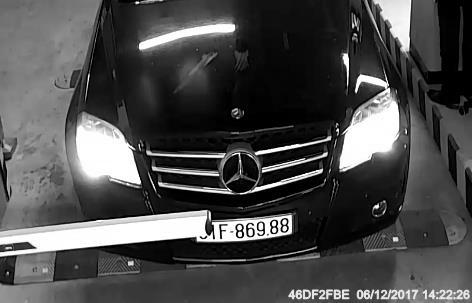License-plate: (185, 211, 297, 245)
